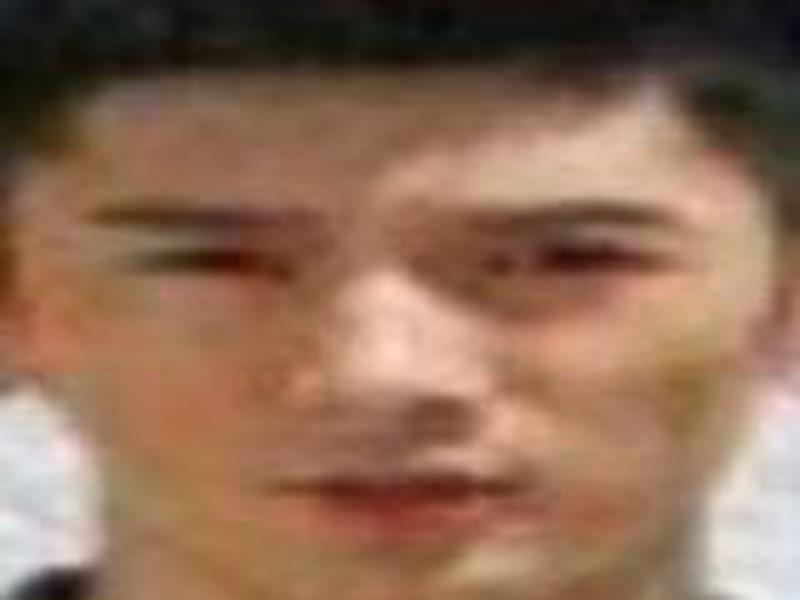without_mask: (16, 74, 768, 600)
